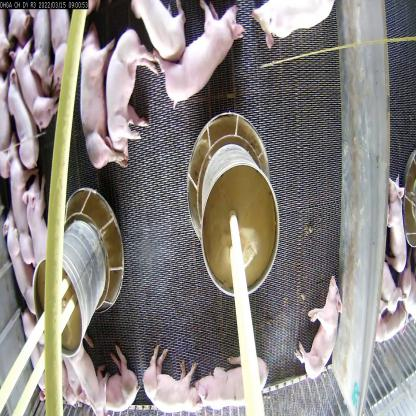Pig: (149, 0, 246, 109), (73, 20, 129, 176), (105, 26, 165, 154), (294, 262, 343, 384), (7, 36, 62, 134), (249, 0, 346, 52), (193, 354, 271, 416), (139, 344, 206, 415), (0, 212, 41, 321), (84, 340, 140, 414), (5, 67, 45, 170), (5, 133, 34, 273), (130, 0, 188, 69), (61, 341, 109, 415), (21, 175, 55, 268), (16, 314, 50, 402), (27, 5, 59, 98), (47, 8, 80, 89), (385, 176, 410, 277)
